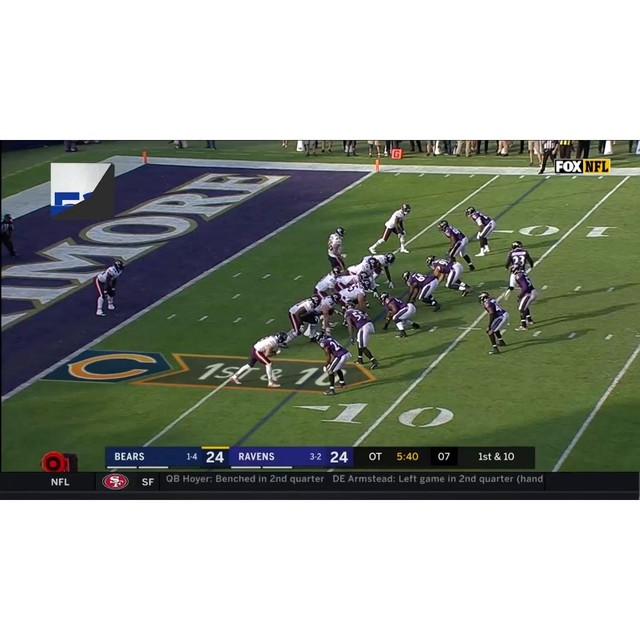american-football-player: (231, 331, 287, 387), (342, 304, 379, 369), (314, 330, 351, 395), (368, 203, 412, 254), (478, 291, 509, 355), (378, 290, 419, 338), (439, 220, 476, 272), (510, 264, 539, 330), (426, 254, 471, 296), (285, 295, 321, 343), (400, 271, 442, 312), (94, 259, 124, 316), (466, 205, 496, 256), (365, 252, 396, 288), (337, 281, 370, 313), (326, 226, 348, 274), (313, 293, 338, 333), (312, 269, 339, 301), (346, 257, 373, 277)
referee: (0, 212, 20, 259), (537, 141, 557, 174)
